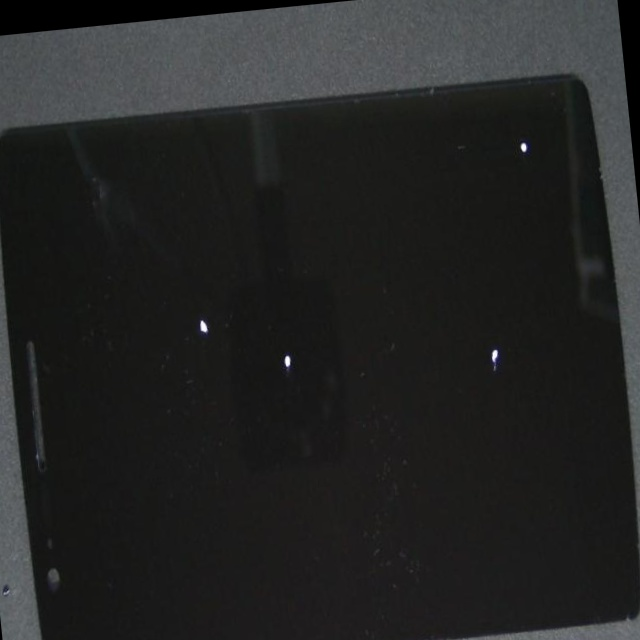stain: (237, 125, 640, 530), (55, 155, 425, 594), (56, 185, 349, 537), (246, 12, 636, 223)
